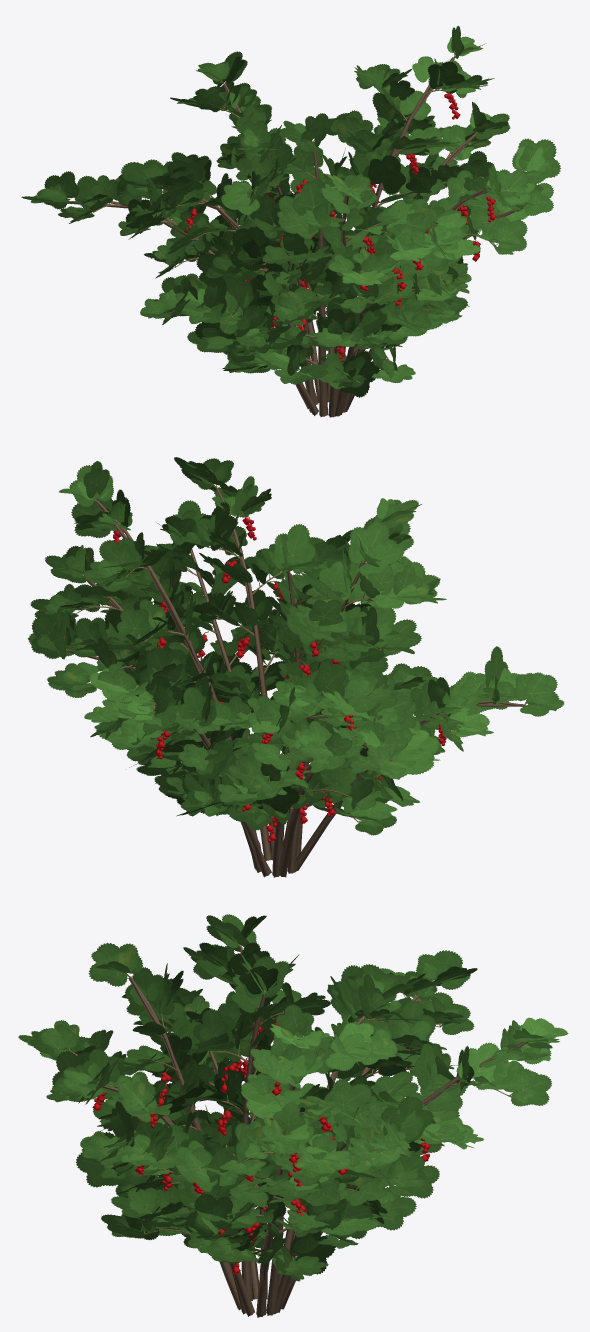
The model's file is forage-currant.glb.
The picture shows the model from 3 angles, top to bottom: view 1: azimuth 30°, elevation 25°; view 2: azimuth 150°, elevation 25°; view 3: azimuth 270°, elevation 25°; orthographic projection. The views are drawn at different scales.
Visible parts, largest first — view 1: bodyFar, body, fruit, fruitFar; view 2: body, bodyFar, fruit, fruitFar; view 3: bodyFar, body, fruitFar, fruit.
Boxes of the visible parts, x1,y1,x2,y2 form: bodyFar: (21,25,560,417); body: (31,32,552,417); fruit: (186,90,493,361); fruitFar: (184,93,496,359); body: (37,463,556,876); bodyFar: (27,457,564,877); fruit: (113,515,446,842); fruitFar: (113,517,445,841); bodyFar: (18,914,559,1317); body: (27,915,568,1316); fruitFar: (92,1027,430,1274); fruit: (94,1018,429,1273).
Bounding box in the file's own units: 1.52 × 1.16 × 1.52.
1 material, 1 textured.
